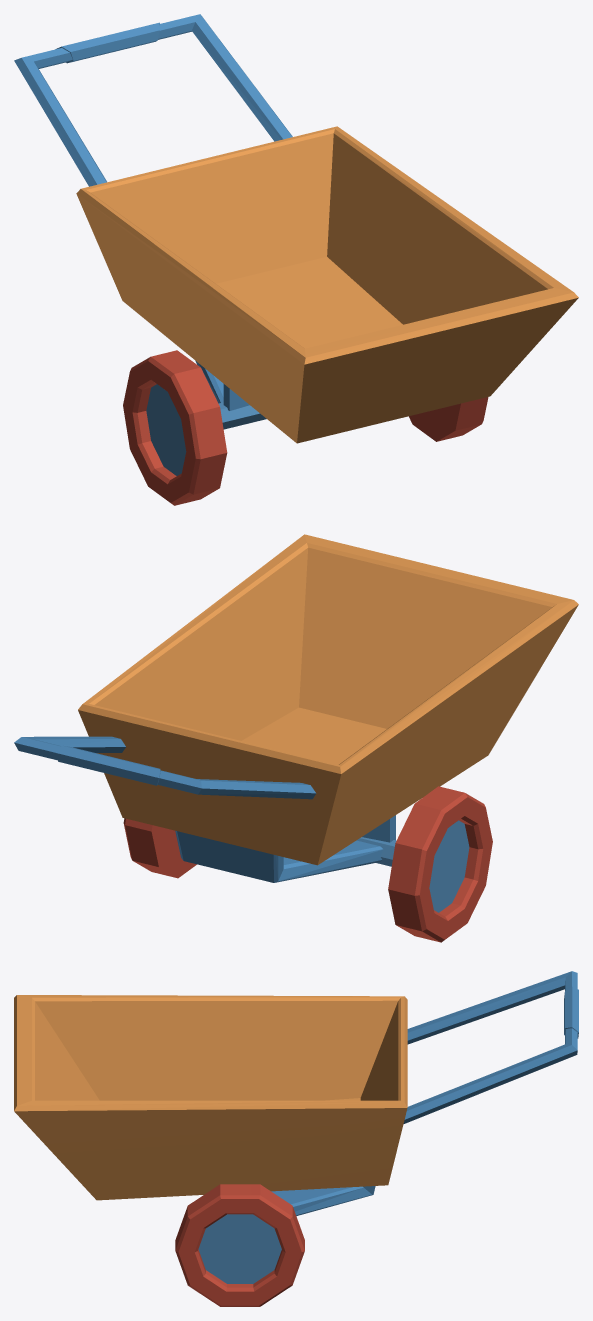
File: cart_b.gltf
3 renders of one model, top to bottom at view 1: azimuth 30°, elevation 25°; view 2: azimuth 150°, elevation 25°; view 3: azimuth 270°, elevation 25°, orthographic. The views are drawn at different scales.
Parts seen in each view (by area): view 1: body, wheel_3, wheel_0, wheel_4; view 2: body, wheel_3, wheel_0, wheel_4; view 3: body, wheel_5, wheel_1.
Part boxes in pixels (x1=…): body: x1=14, y1=14, x2=578, y2=505; wheel_3: x1=123, y1=361, x2=195, y2=502; wheel_0: x1=146, y1=384, x2=186, y2=475; wheel_4: x1=409, y1=403, x2=460, y2=441; body: x1=14, y1=534, x2=578, y2=942; wheel_3: x1=419, y1=797, x2=492, y2=939; wheel_0: x1=429, y1=820, x2=469, y2=912; wheel_4: x1=151, y1=825, x2=196, y2=878; body: x1=14, y1=971, x2=578, y2=1306; wheel_5: x1=178, y1=1199, x2=301, y2=1305; wheel_1: x1=198, y1=1214, x2=281, y2=1283.
Bounding box in the file's own units: 0.8258 × 0.76 × 1.62.
Materials: 1 (1 with a texture image).
